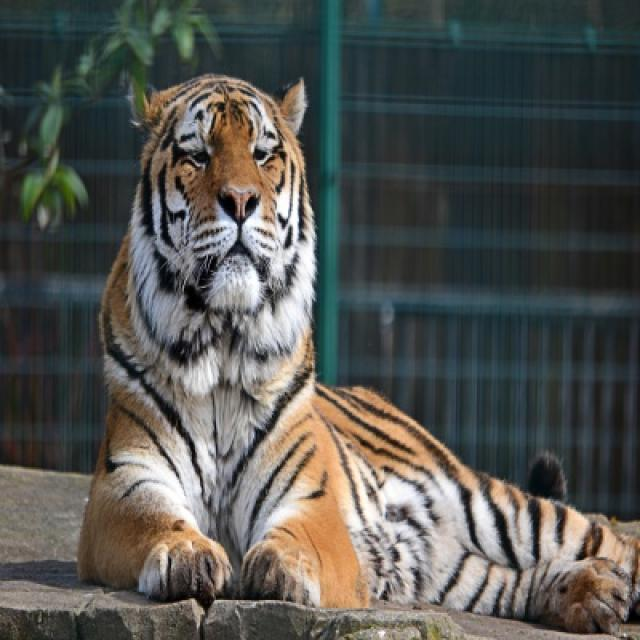Tiger: (73, 75, 638, 629)
